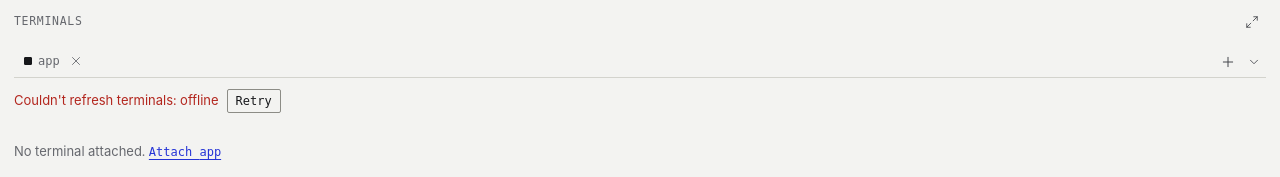
Test: TerminalPanel › says when a reload of the list failed, even after a first load
Expected: the message shows "Couldn't refresh terminals: offline", [14,90,281,114]
Click the button "Retry".
click(254, 102)  # box [227,90,281,114]
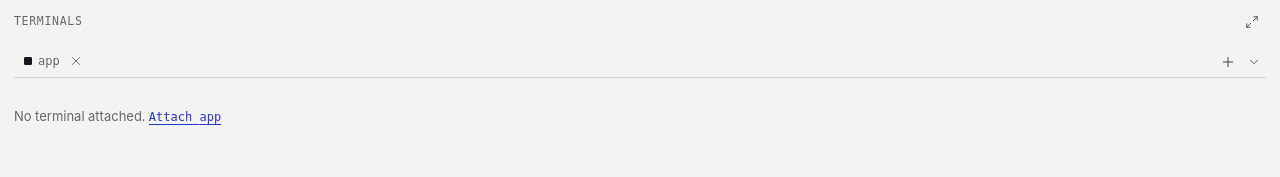
Expected: the message "Couldn't refresh terminals: offline Retry" is gone
